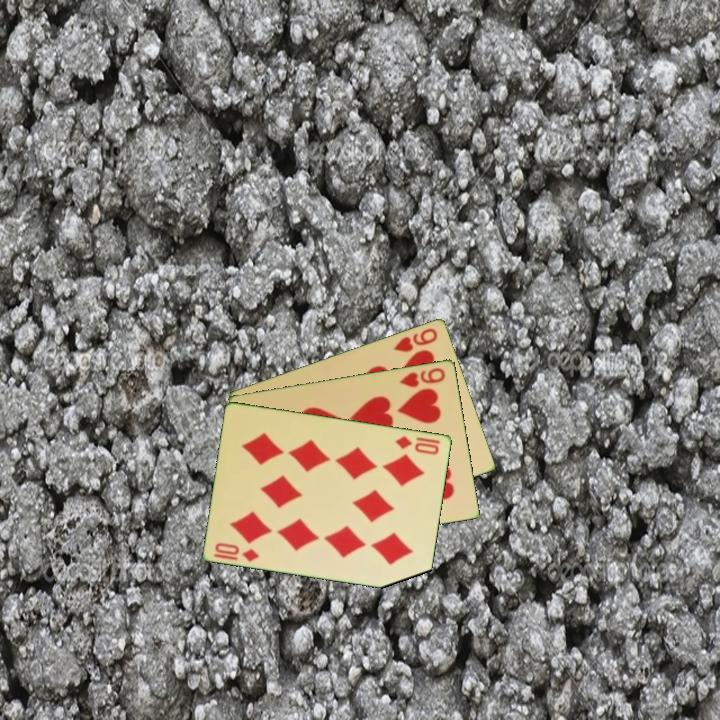10d: (212, 539, 262, 565), (392, 432, 442, 457)
9h: (390, 324, 441, 355), (396, 364, 448, 390)
